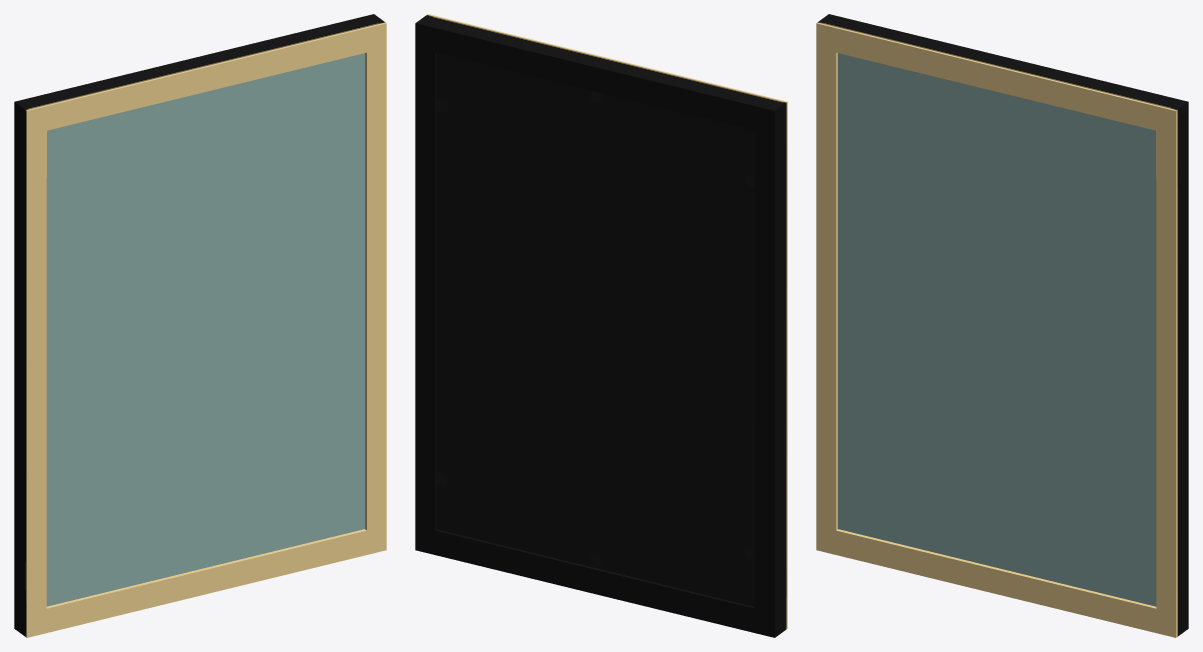
Rendered from CertificateA.fbx.
3 renders of one model, left to right at view 1: azimuth 30°, elevation 25°; view 2: azimuth 150°, elevation 25°; view 3: azimuth 330°, elevation 25°, orthographic.
Visible parts, largest first — view 1: CertificateA; view 2: CertificateA; view 3: CertificateA.
Boxes of the visible parts, left/top/right/bottom form: CertificateA: left=14, top=14, right=386, bottom=637; CertificateA: left=415, top=14, right=787, bottom=637; CertificateA: left=816, top=14, right=1188, bottom=637.
Size of the model in its own units: 34.4 by 48.16 by 2.12.
